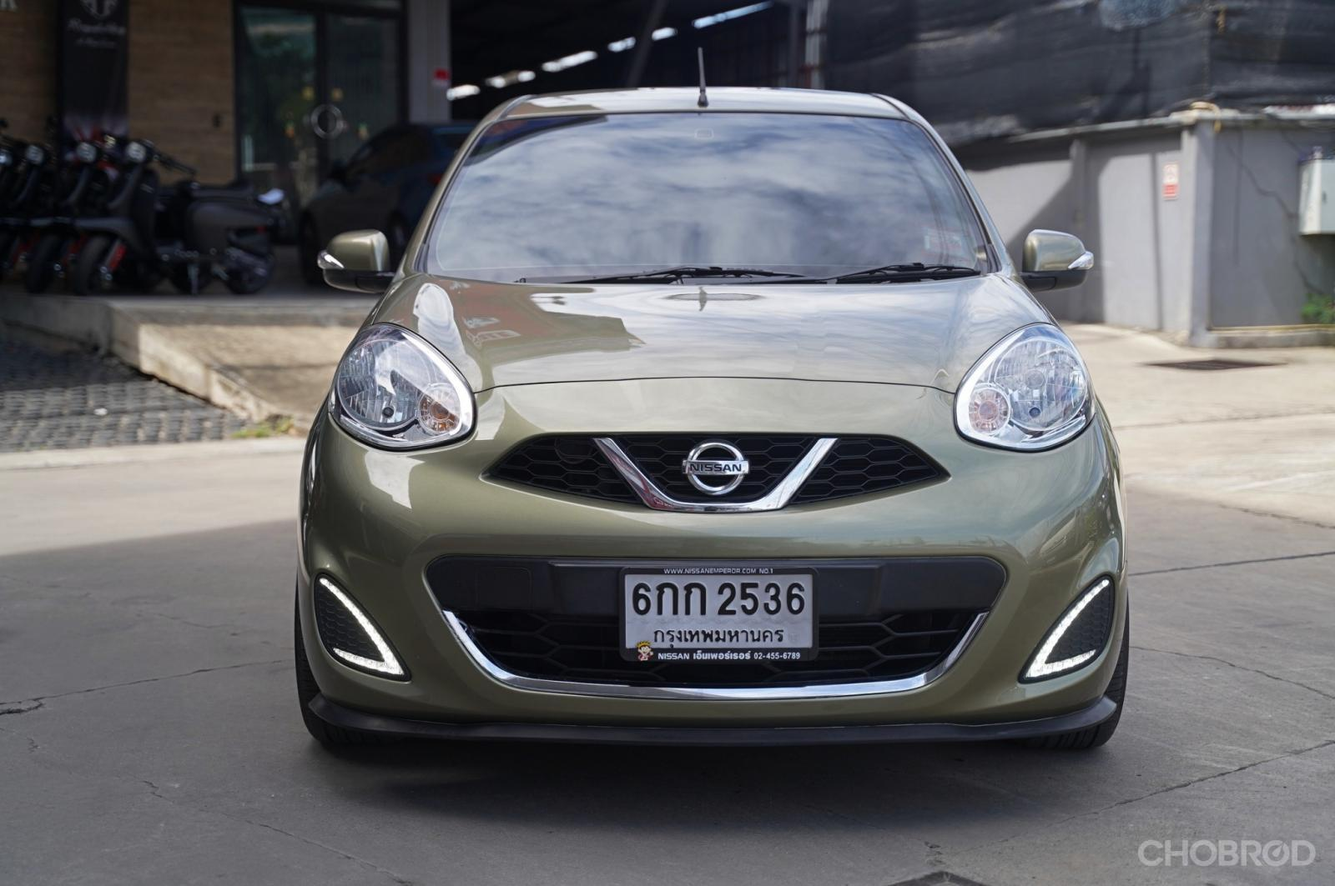license-plate: (608, 551, 829, 678)
